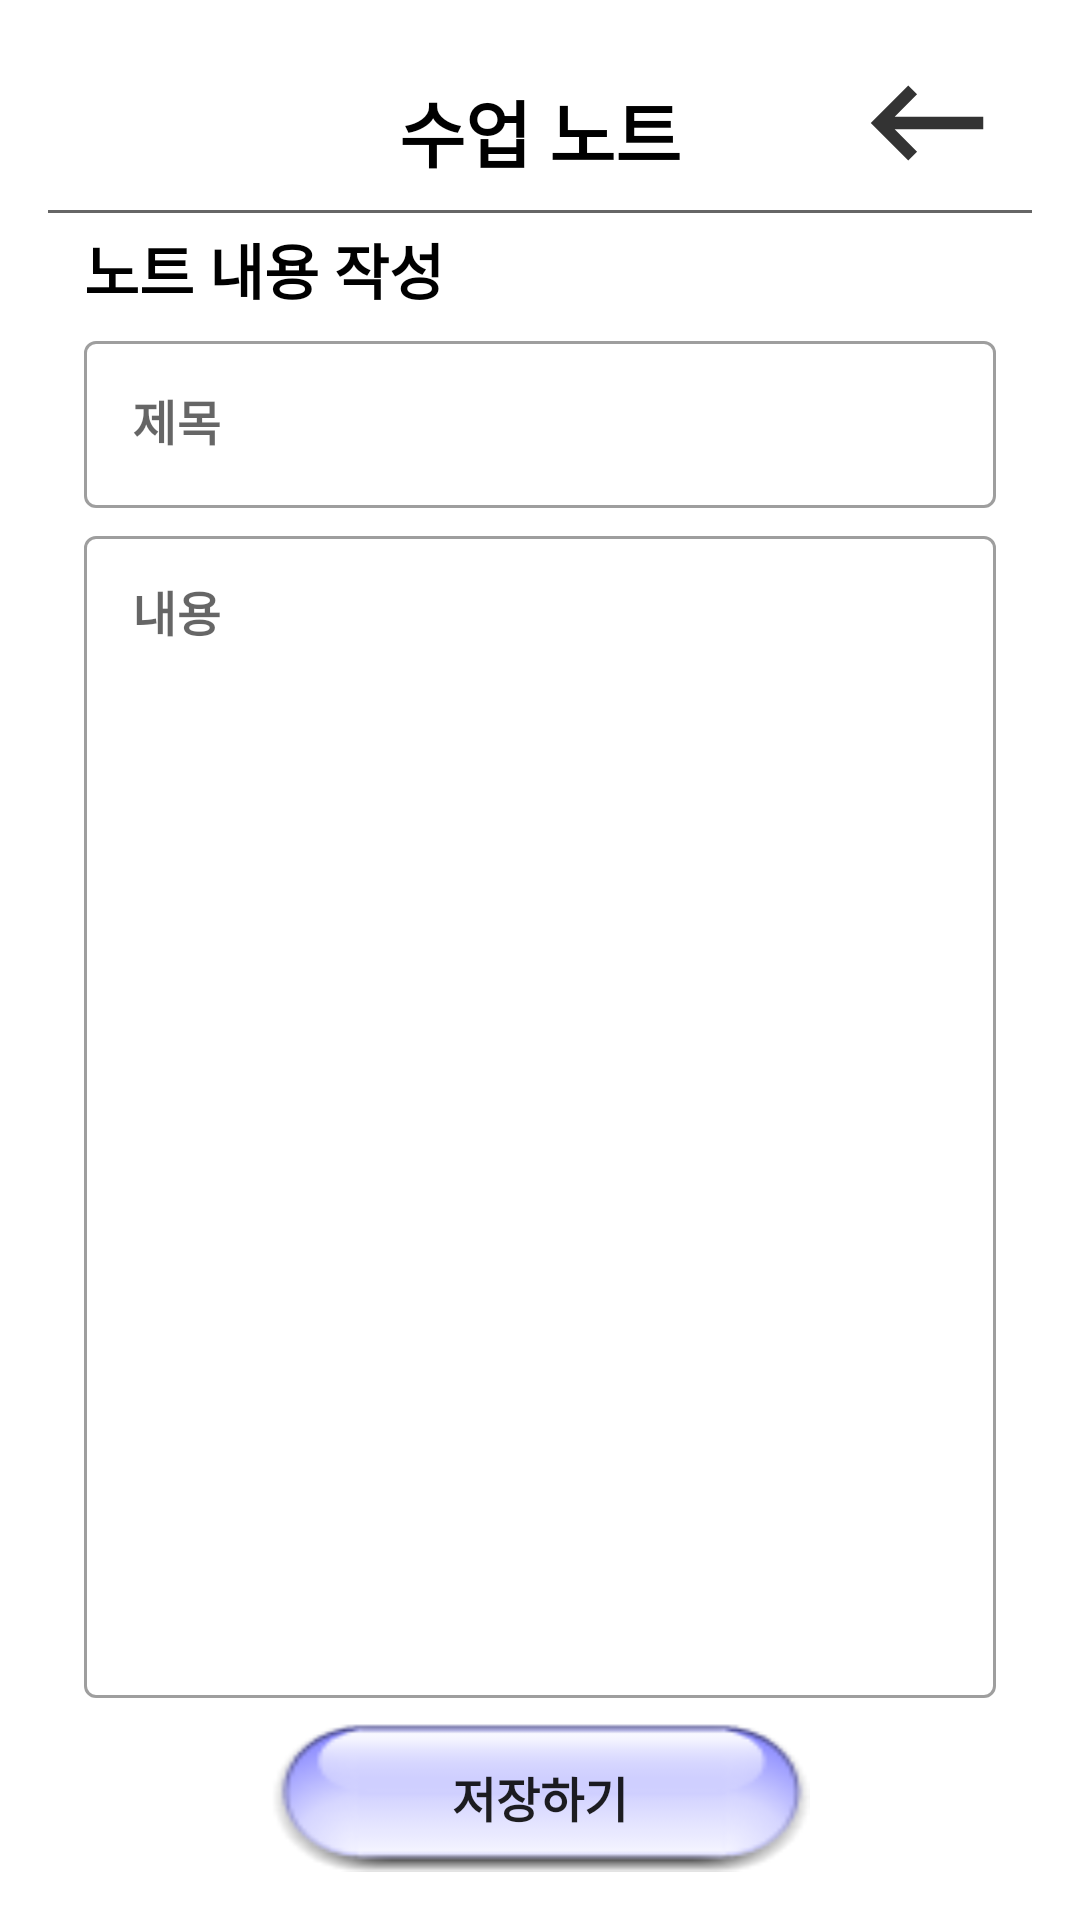

Named icons in this screenshot (1080*1920) and their centers, point (x, y):
backspace: point (927, 123)
